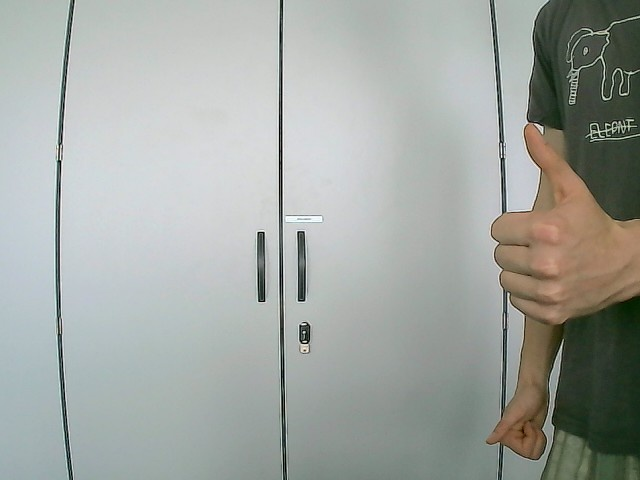up: (489, 122, 622, 327)
